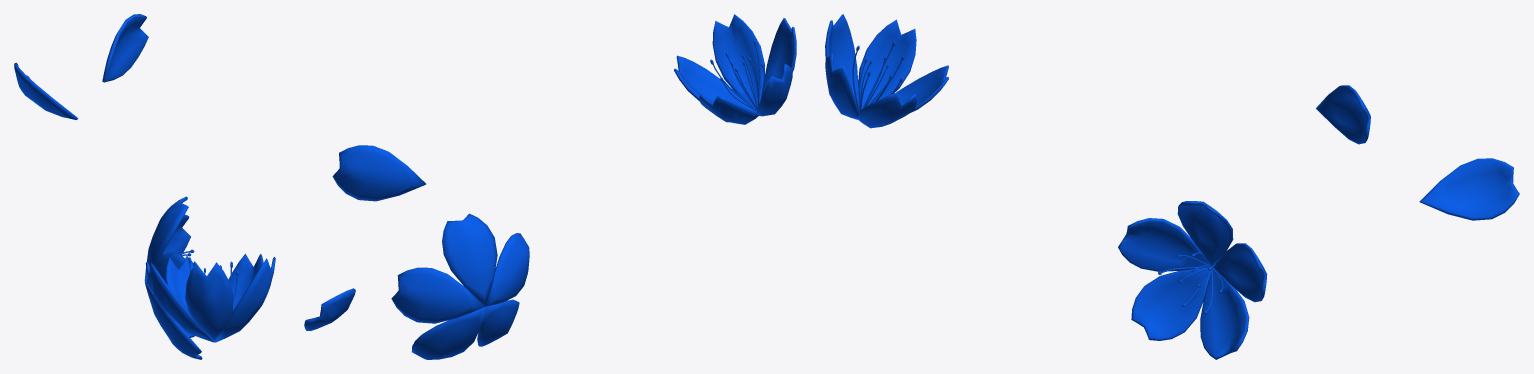
Rendered from Kitsune Cherry Embrace_Paricle.fbx.
3 renders of one model, left to right at view 1: azimuth 30°, elevation 25°; view 2: azimuth 150°, elevation 25°; view 3: azimuth 270°, elevation 25°, orthographic. The views are drawn at different scales.
Parts seen in each view (by area): view 1: KCE_BranchParticle.004, KCE_BranchParticle.003, KCE_BranchParticle.001, KCE_BranchParticle.002; view 2: KCE_BranchParticle.003, KCE_BranchParticle.004, KCE_BranchParticle.001, KCE_BranchParticle.002; view 3: KCE_BranchParticle.003, KCE_BranchParticle.004, KCE_BranchParticle.002, KCE_BranchParticle.001.
Boxes of the visible parts, x1=… form: KCE_BranchParticle.004: x1=145, y1=254, x2=275, y2=342; KCE_BranchParticle.003: x1=144, y1=196, x2=202, y2=359; KCE_BranchParticle.001: x1=102, y1=14, x2=148, y2=82; KCE_BranchParticle.002: x1=14, y1=62, x2=78, y2=119; KCE_BranchParticle.003: x1=391, y1=213, x2=529, y2=359; KCE_BranchParticle.004: x1=674, y1=14, x2=796, y2=124; KCE_BranchParticle.001: x1=332, y1=145, x2=425, y2=201; KCE_BranchParticle.002: x1=304, y1=288, x2=355, y2=330; KCE_BranchParticle.003: x1=1118, y1=201, x2=1267, y2=359; KCE_BranchParticle.004: x1=825, y1=14, x2=948, y2=128; KCE_BranchParticle.002: x1=1419, y1=158, x2=1519, y2=220; KCE_BranchParticle.001: x1=1316, y1=85, x2=1370, y2=144.
Bounding box in the file's own units: 0.0701 × 0.0777 × 0.1805.
